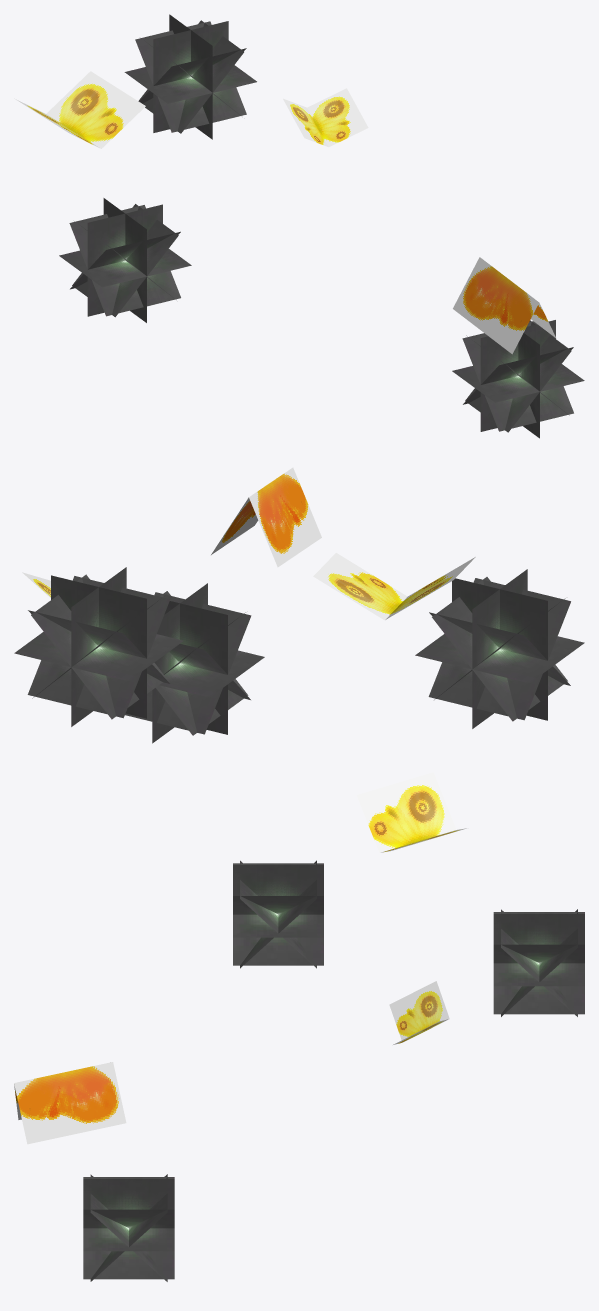
3 renders of one model, top to bottom at view 1: azimuth 30°, elevation 25°; view 2: azimuth 150°, elevation 25°; view 3: azimuth 270°, elevation 25°, orthographic. The views are drawn at different scales.
Parts seen in each view (by area): view 1: bf_01; view 2: bf_01; view 3: bf_01.
Part boxes in pixels (x1,y1,x2,y2): bf_01: [14, 14, 584, 438]; bf_01: [14, 467, 584, 743]; bf_01: [14, 772, 584, 1281].
Bounding box in the file's own units: 0.7944 × 0.5644 × 0.909.
Materials: 3 (3 with a texture image).
